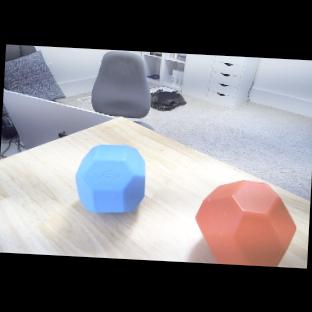V5_BLUE: (72, 143, 148, 216)
V5_RED: (192, 177, 299, 267)
